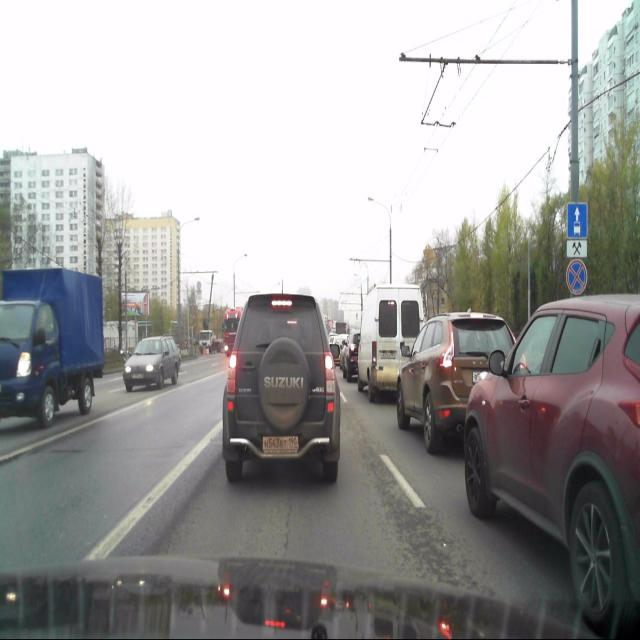road sign: (567, 202, 588, 239), (566, 241, 588, 257)
